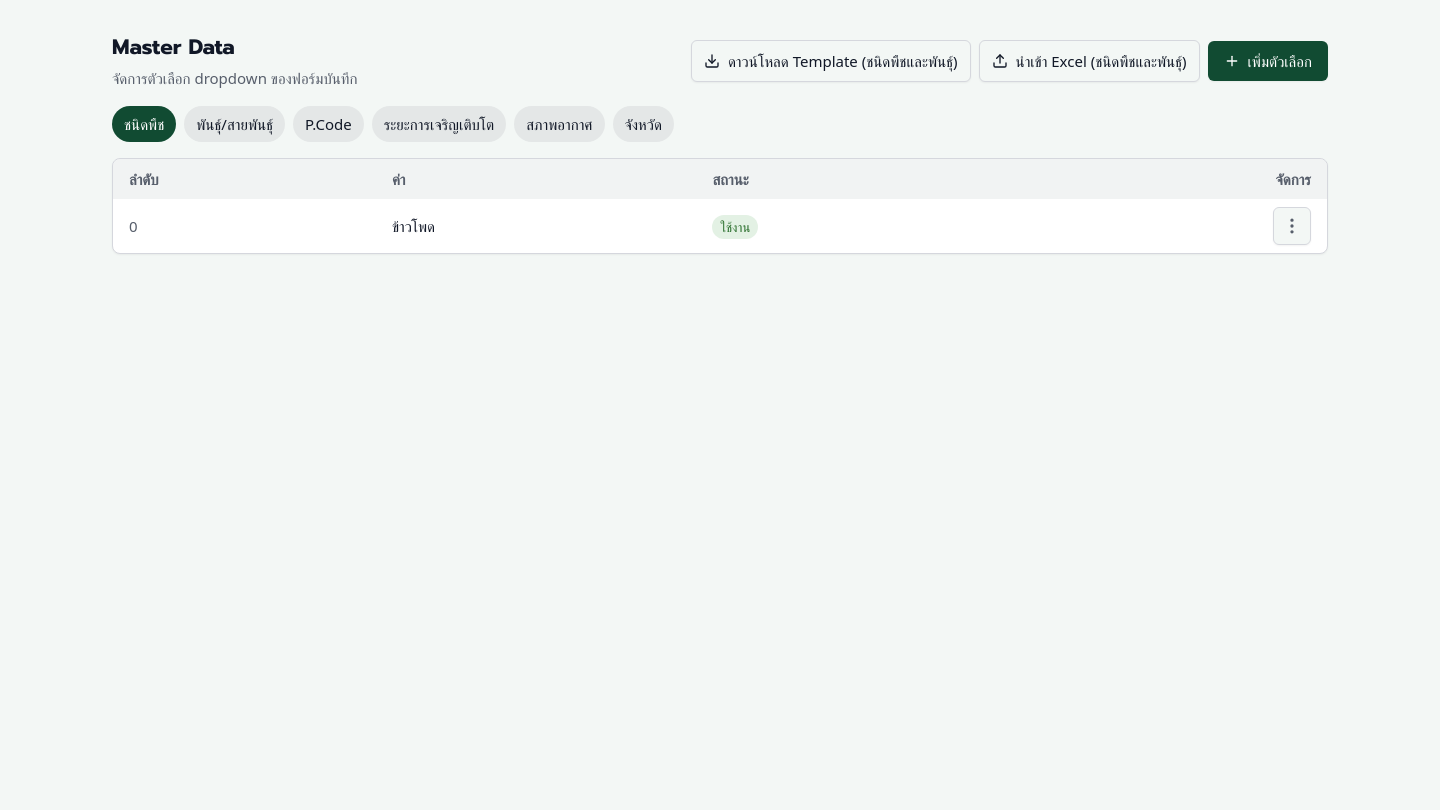
MasterData — round 8-22A: query-key contract + duplicate-value error handling › shows the backend's specific duplicate-value message on a 409, not a generic axios message
Expected: the text "ข้าวโพด" is shown, [376,199,696,253]
Click the button "เพิ่มตัวเลือก" at (1268, 61), box [1208,41,1328,81]
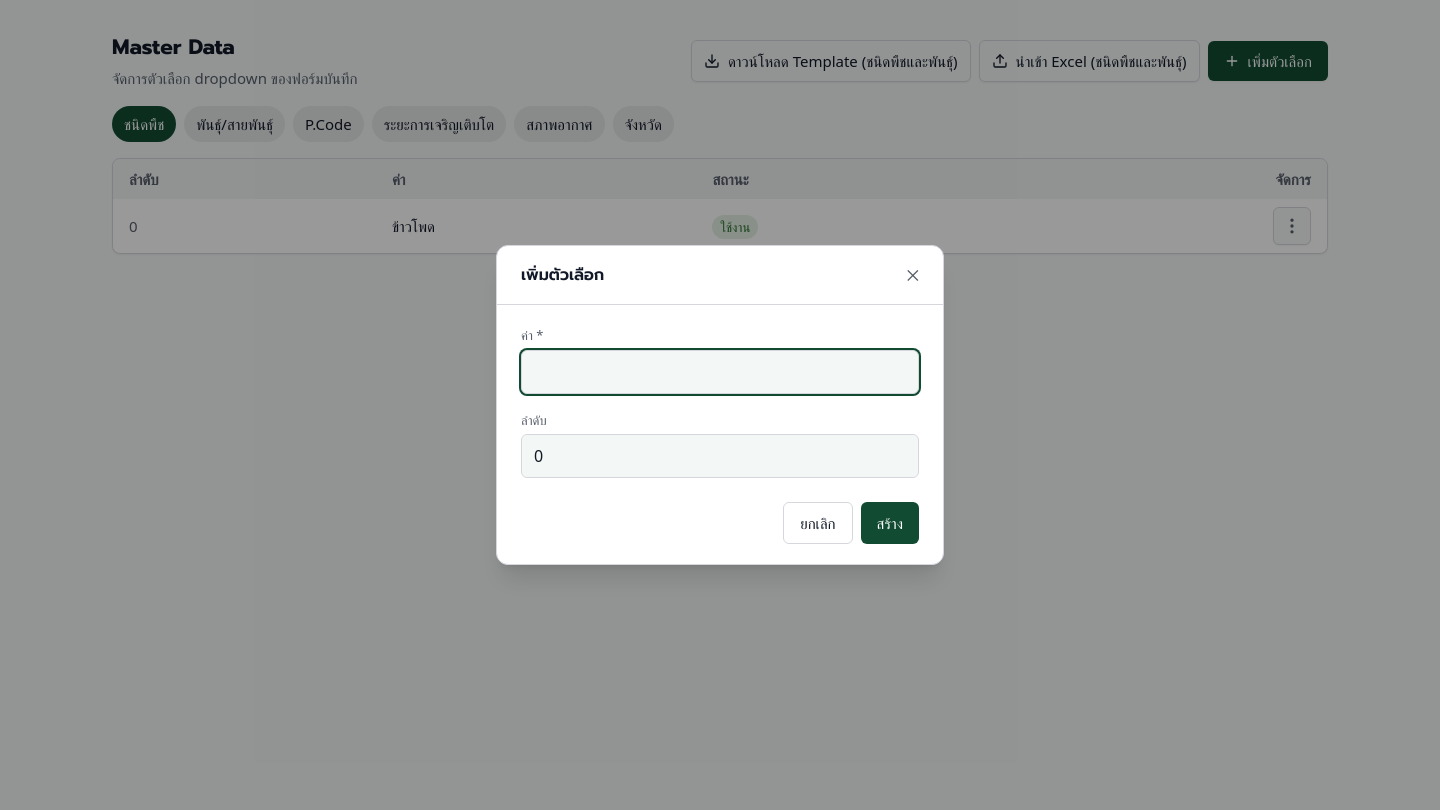
Expected: the heading "เพิ่มตัวเลือก" is shown, [521,262,604,288]
Type "ข้าวโพด" into the field at (720, 372), box [521,350,919,394]
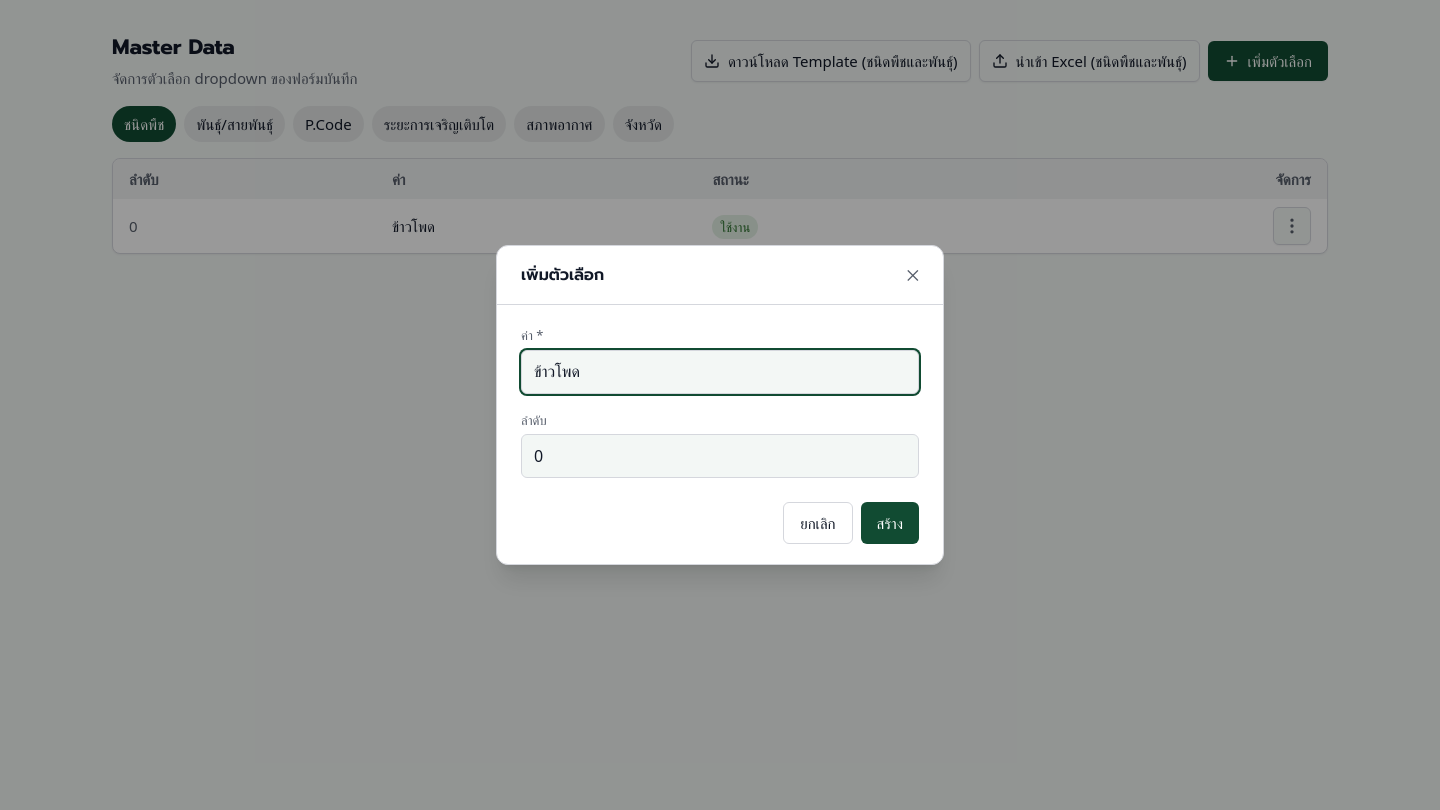
Click the button "สร้าง" at (890, 524), box [861,502,919,544]
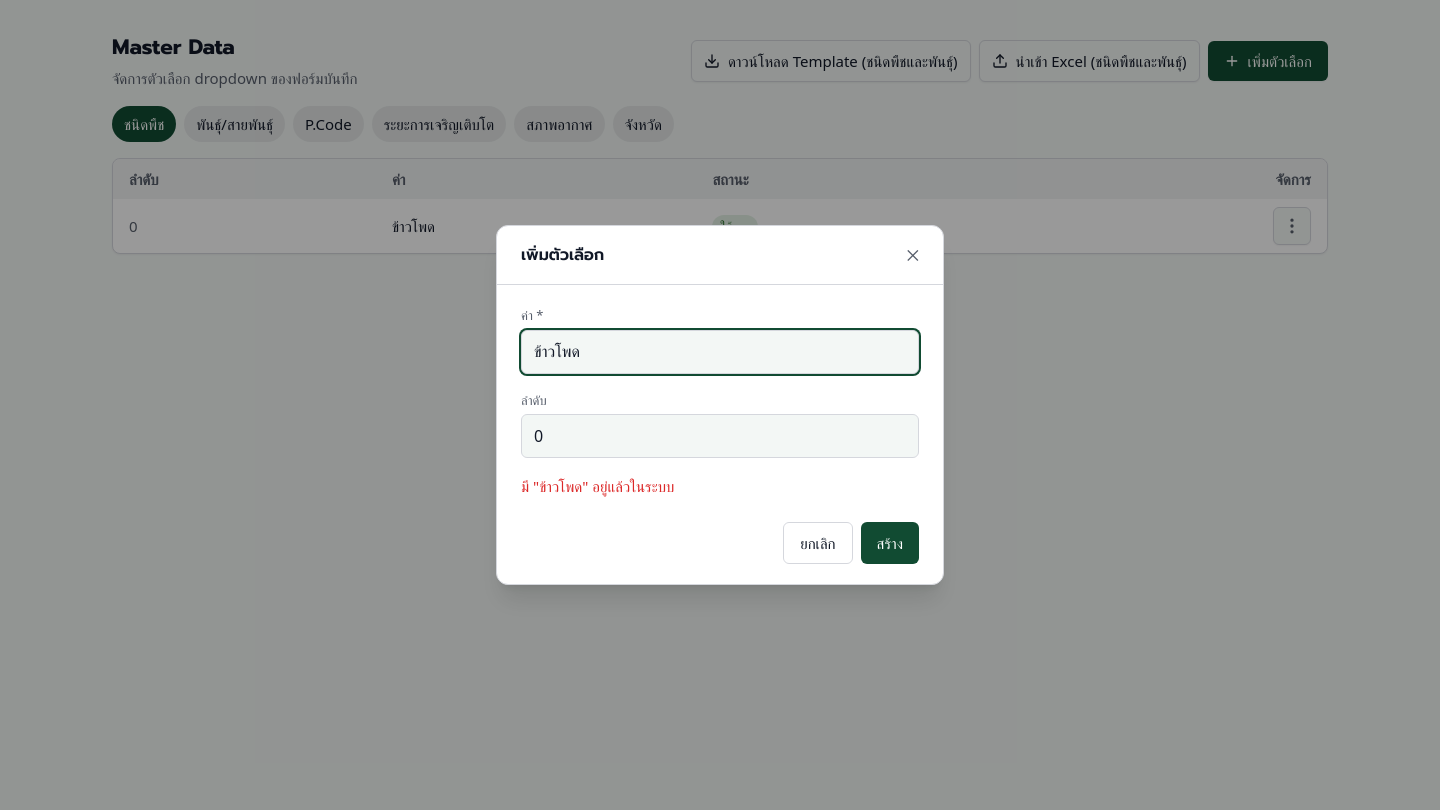
Expected: the text "มี \"ข้าวโพด\" อยู่แล้วในระบบ" is shown, [521,476,674,496]
